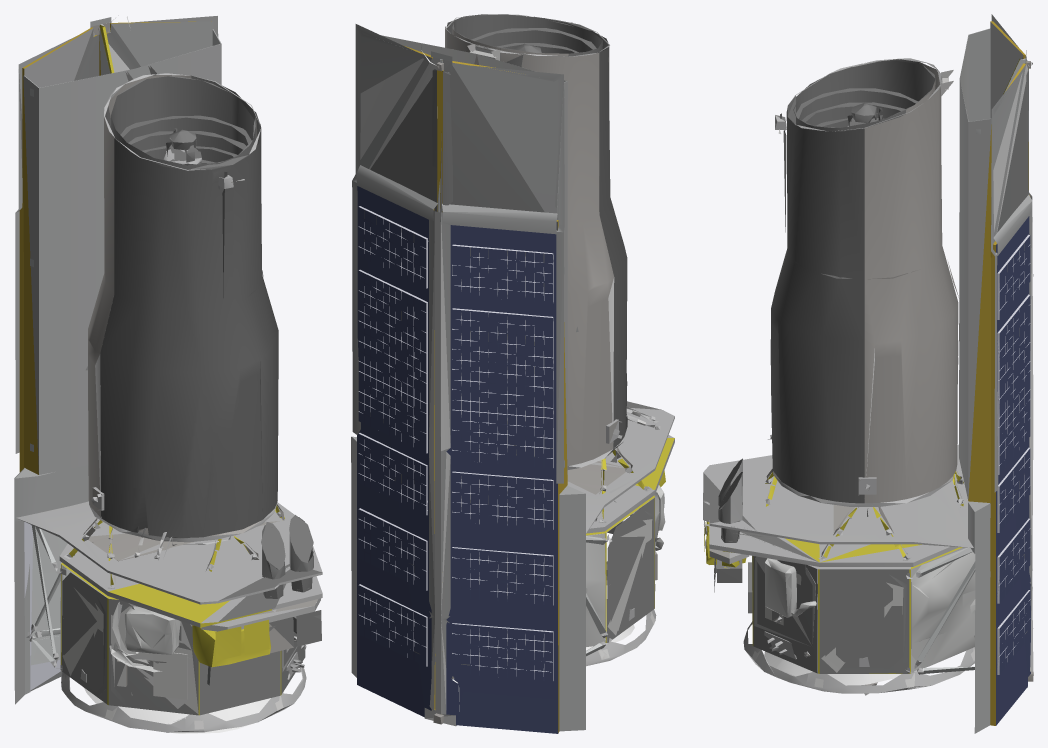
Rendered from spitzer.glb.
3 views of the same model, side by side, from view 1: azimuth 30°, elevation 25°; view 2: azimuth 150°, elevation 25°; view 3: azimuth 270°, elevation 25° (orthographic). The views are drawn at different scales.
Visible parts, largest first — view 1: body, solar-panel, foil; view 2: solar-panel, body, foil; view 3: body, solar-panel, foil.
Boxes of the visible parts, x1,y1,x2,y2 form: body: (16,15,322,733); solar-panel: (14,16,320,715); foil: (60,25,294,715); solar-panel: (351,24,655,733); body: (360,14,674,726); foil: (382,35,674,646); body: (703,58,1033,695); solar-panel: (704,14,1033,733); foil: (704,36,1019,673).
Bounding box in the file's own units: 1.62 × 4.48 × 2.1.
